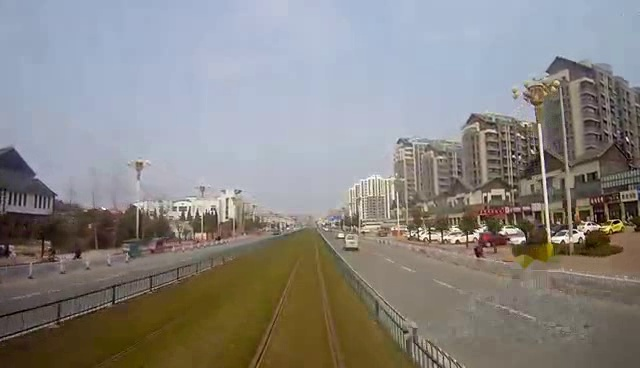car: (340, 231, 361, 254)
